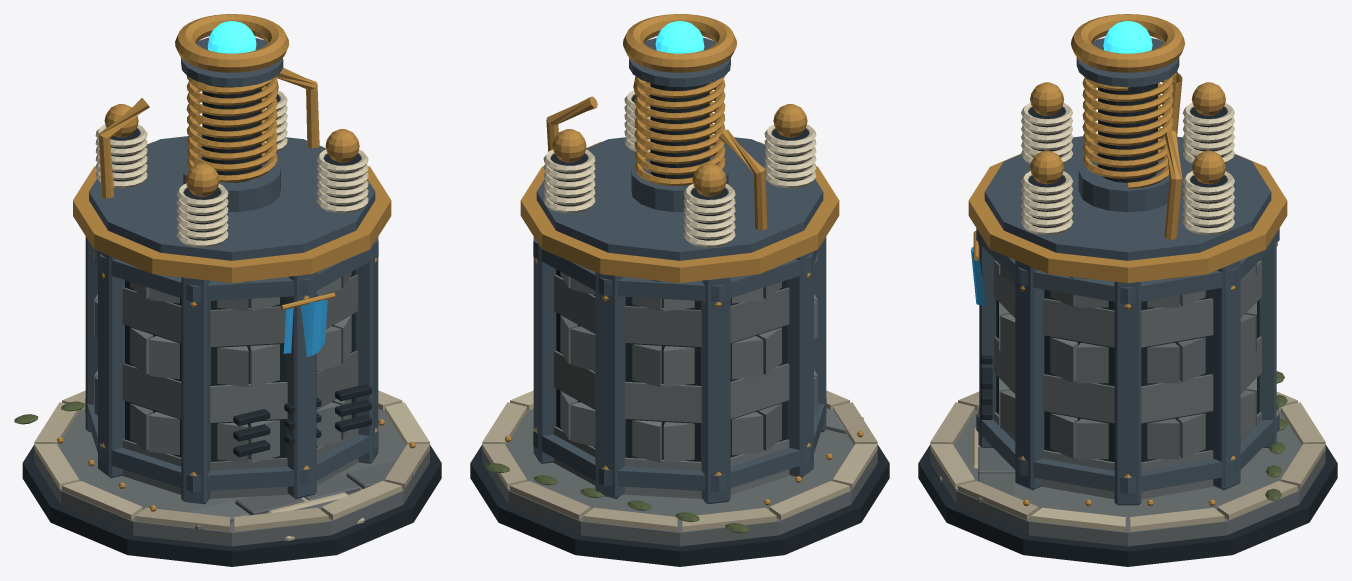
The model's file is lightning__corrente__L15.glb.
3 renders of one model, left to right at view 1: azimuth 30°, elevation 25°; view 2: azimuth 150°, elevation 25°; view 3: azimuth 270°, elevation 25°, orthographic.
Visible parts, largest first — view 1: structure, weapon, banners; view 2: structure, weapon; view 3: structure, weapon, banners.
Part boxes in pixels (box(x1,y1,x2,y2)): structure: box(14, 67, 441, 566); weapon: box(175, 14, 289, 212); banners: box(280, 292, 335, 356); structure: box(470, 81, 889, 566); weapon: box(623, 14, 736, 212); structure: box(918, 71, 1337, 566); weapon: box(1071, 14, 1184, 212); banners: box(971, 231, 984, 305).
Bounding box in the file's own units: 0.8624 × 1.03 × 0.8624.
